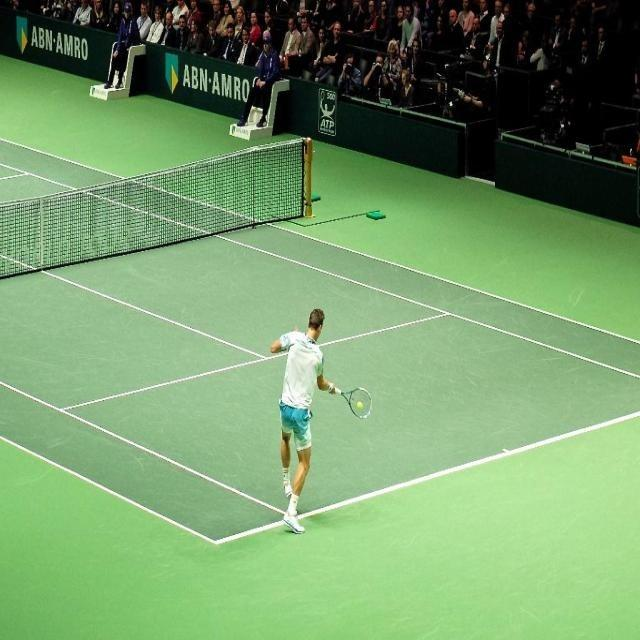ball: (356, 400, 363, 410)
